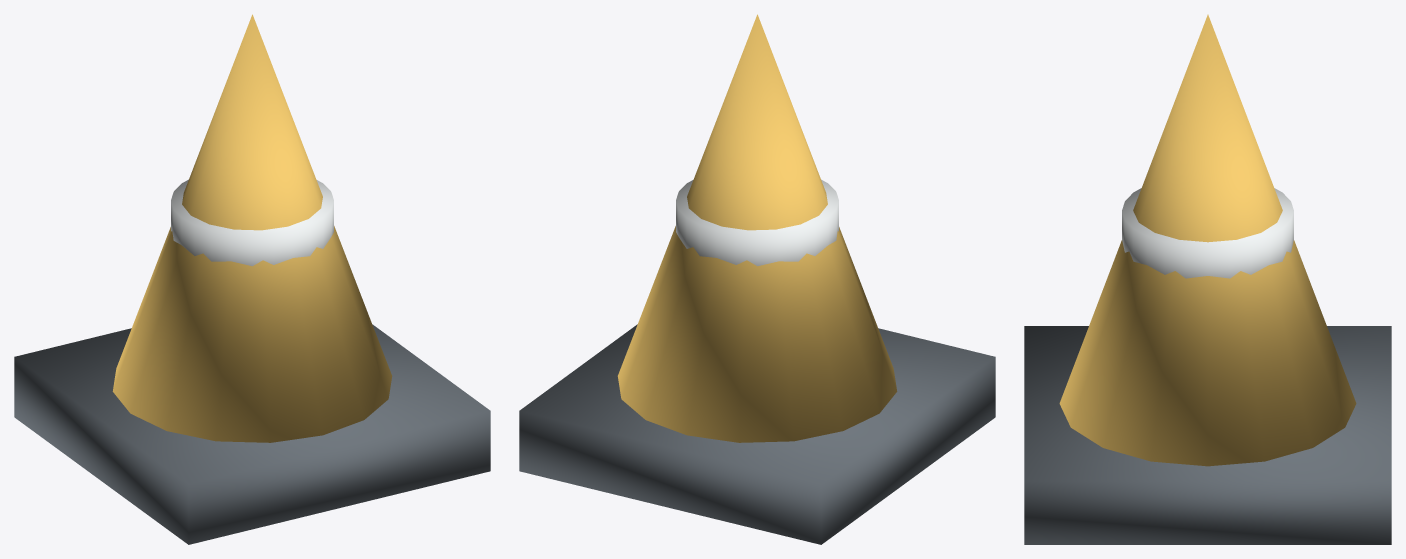
File: traffic_cone_enhanced.glb
3 renders of one model, left to right at view 1: azimuth 30°, elevation 25°; view 2: azimuth 150°, elevation 25°; view 3: azimuth 270°, elevation 25°, orthographic. The views are drawn at different scales.
Parts seen in each view (by area): view 1: Cone_orange, Base_rubber, Stripe_white; view 2: Cone_orange, Base_rubber, Stripe_white; view 3: Cone_orange, Base_rubber, Stripe_white.
Part boxes in pixels (bbox=[...]): Cone_orange: bbox=[112, 14, 392, 442]; Base_rubber: bbox=[14, 324, 490, 544]; Stripe_white: bbox=[171, 179, 333, 266]; Cone_orange: bbox=[617, 14, 897, 442]; Base_rubber: bbox=[519, 324, 995, 544]; Stripe_white: bbox=[676, 179, 838, 266]; Cone_orange: bbox=[1059, 14, 1356, 466]; Base_rubber: bbox=[1024, 326, 1391, 544]; Stripe_white: bbox=[1122, 188, 1293, 278].
Size of the model in its own units: 0.47 by 0.64 by 0.47.
